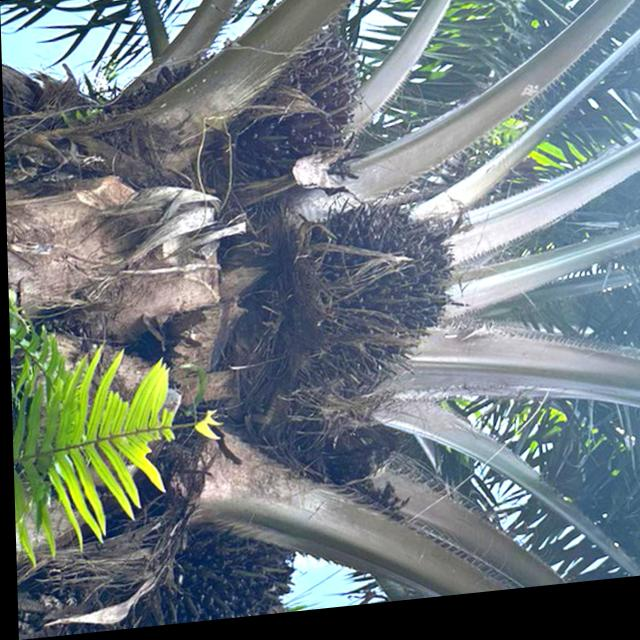unripe: (271, 189, 475, 407)
